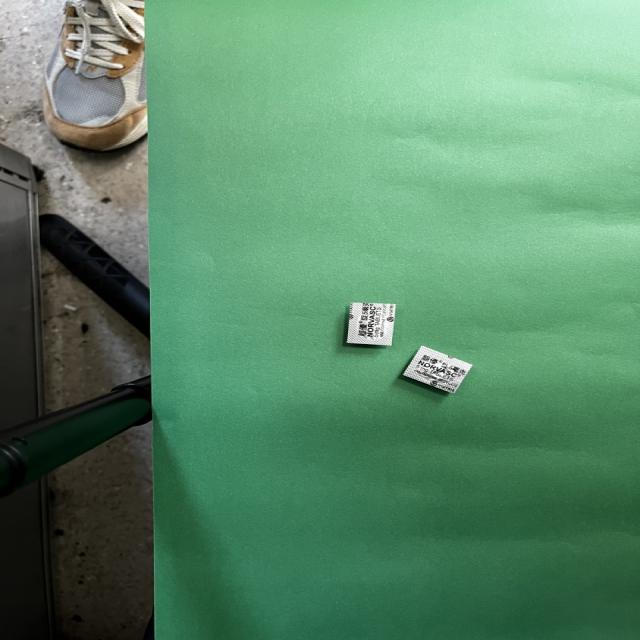Other Objects: (403, 346, 471, 393), (346, 302, 395, 346), (348, 304, 384, 340)
